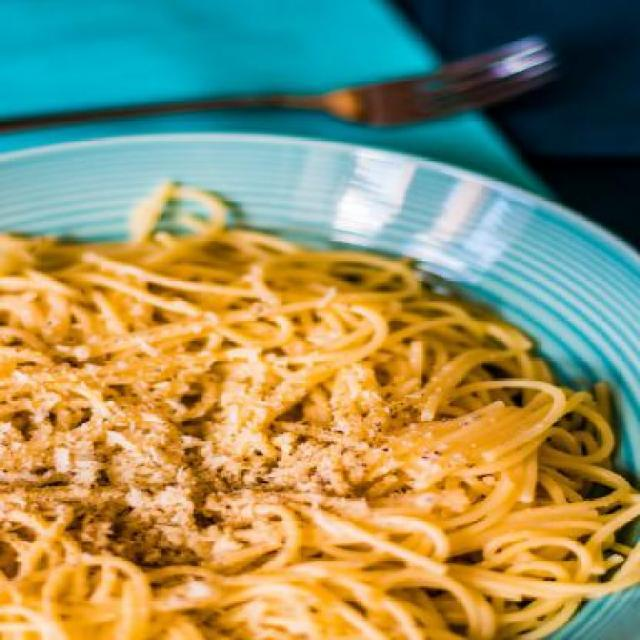Oil pasta: (19, 204, 636, 640)
